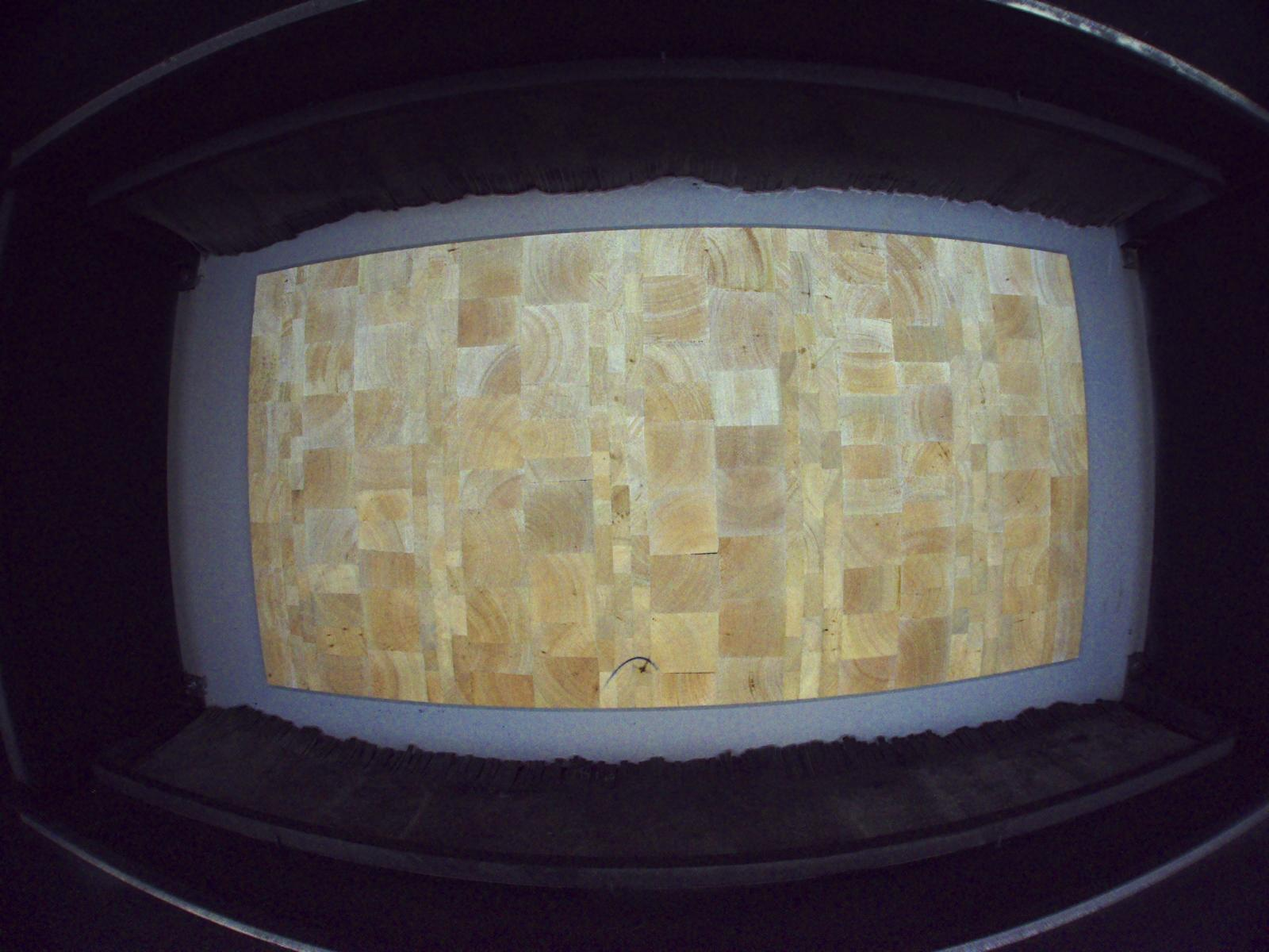nudillo: (638, 653, 651, 674)
